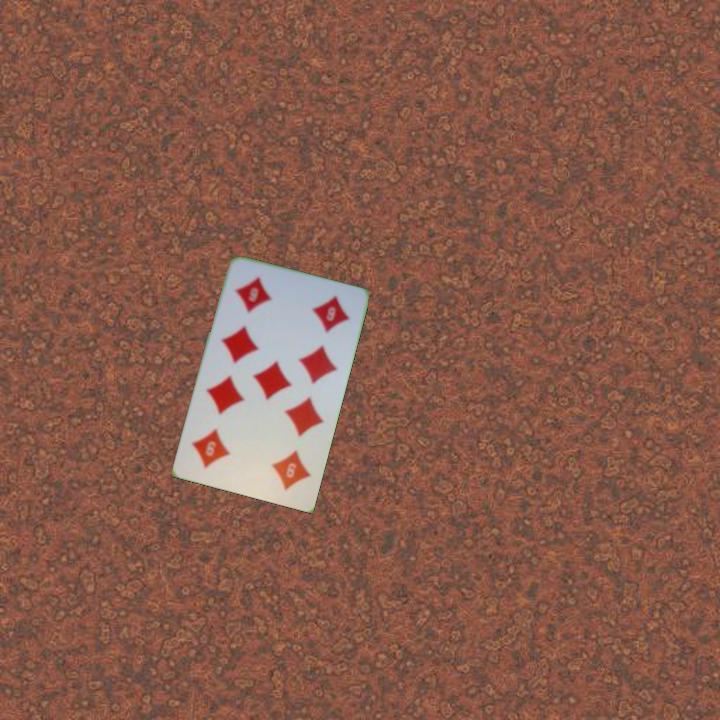d_9.png: (241, 429, 320, 501), (222, 265, 300, 337)
